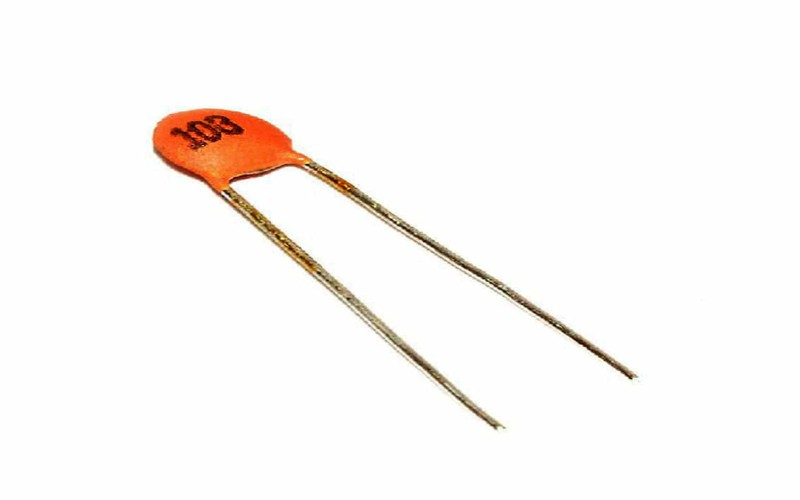Capacitor: (92, 71, 664, 448)
